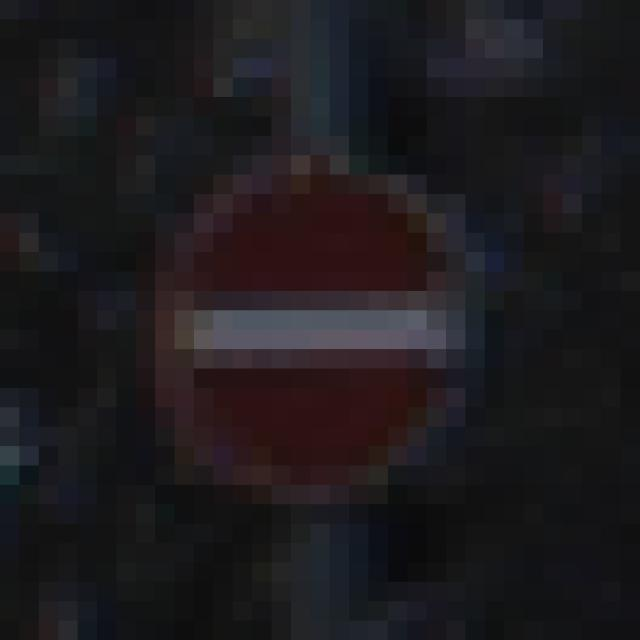No Entry: (98, 117, 544, 544)
